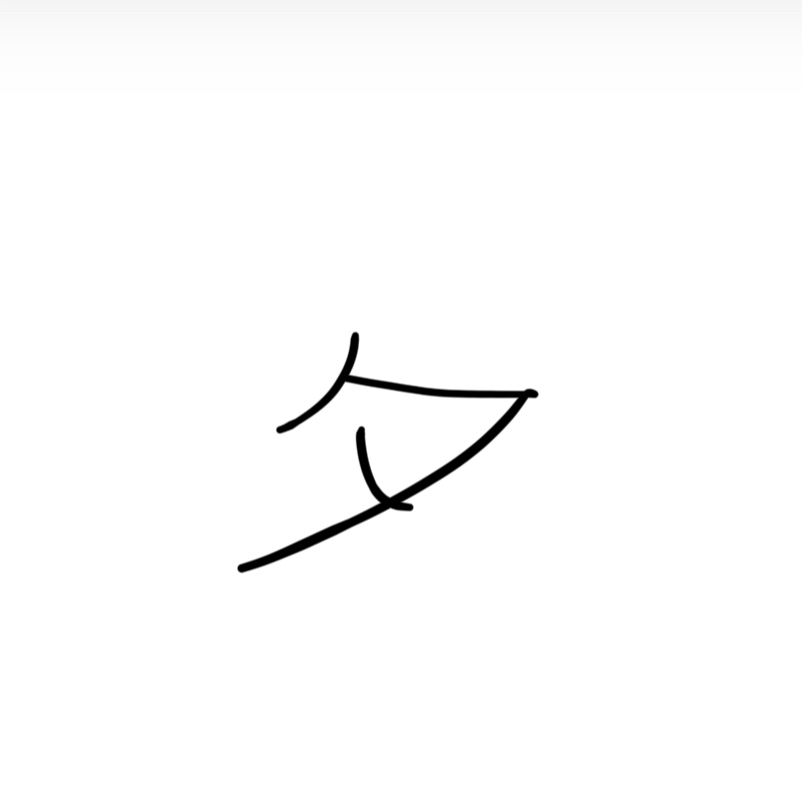ta: (207, 324, 550, 600)
